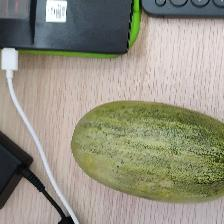gua: (96, 100, 223, 190)
